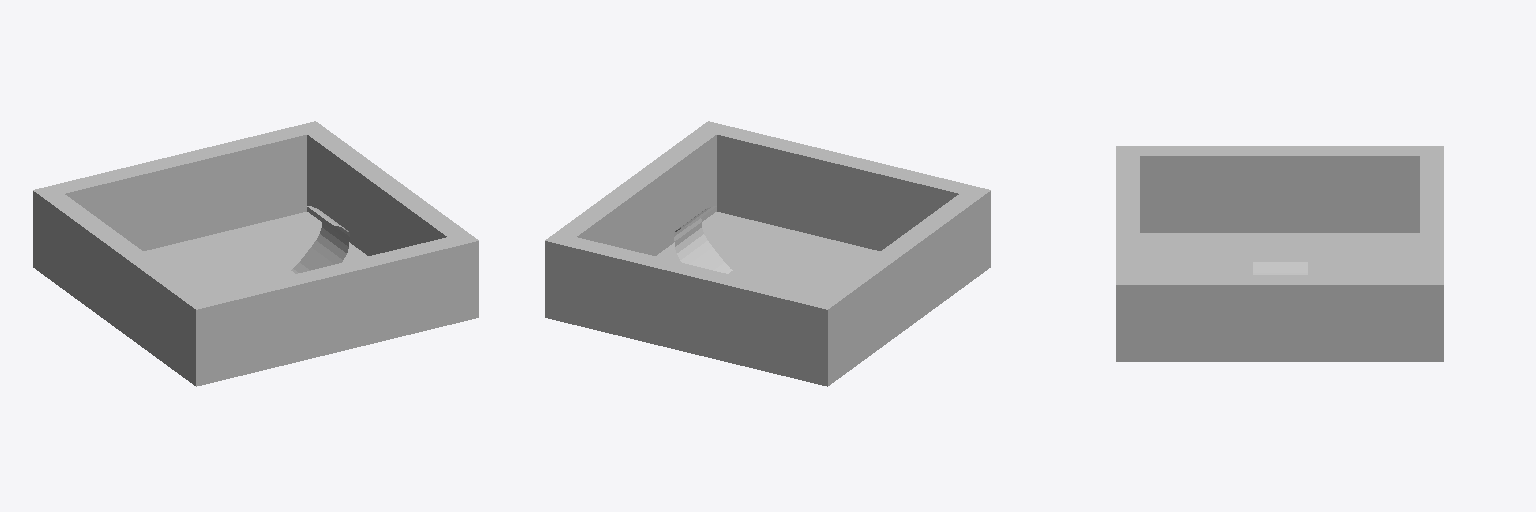
Rendered from anything.obj.
3 renders of one model, left to right at view 1: azimuth 30°, elevation 25°; view 2: azimuth 150°, elevation 25°; view 3: azimuth 270°, elevation 25°, orthographic.
Parts seen in each view (by area): view 1: Plane, Cylinder; view 2: Plane, Cylinder; view 3: Plane, Cylinder.
Boxes of the visible parts, x1=… form: Plane: x1=33, y1=121, x2=478, y2=386; Cylinder: x1=291, y1=206, x2=349, y2=273; Plane: x1=545, y1=121, x2=990, y2=386; Cylinder: x1=674, y1=206, x2=732, y2=273; Plane: x1=1116, y1=146, x2=1443, y2=361; Cylinder: x1=1253, y1=262, x2=1307, y2=274.
Bounding box in the file's own units: 11.95 × 3.27 × 11.95.